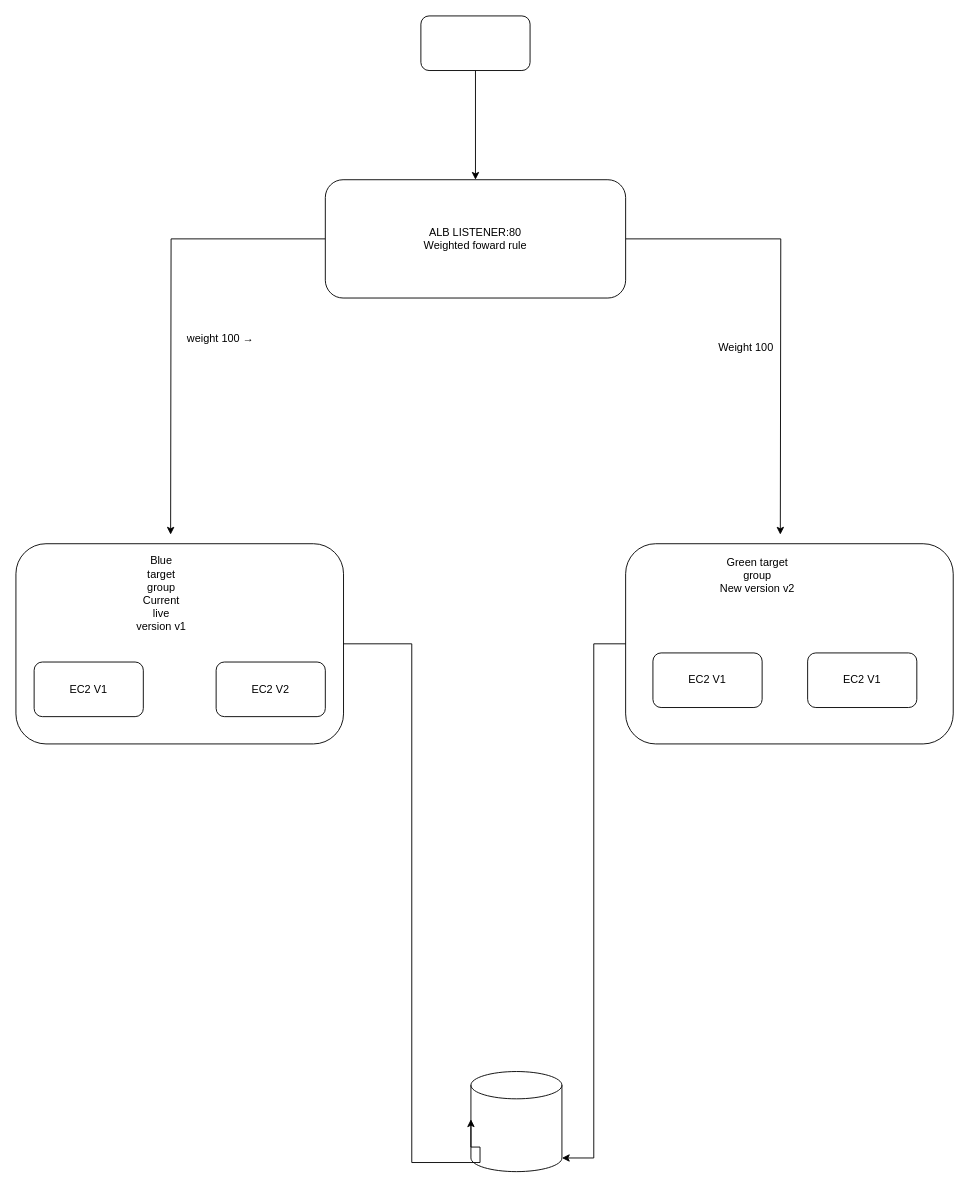
This 969x1188 diagram has some shape labels left out. Here are the shapes that lost their labels. From the top down, the centre of each, then its label:
[475,43]: users
[516,1121]: DATABASE
